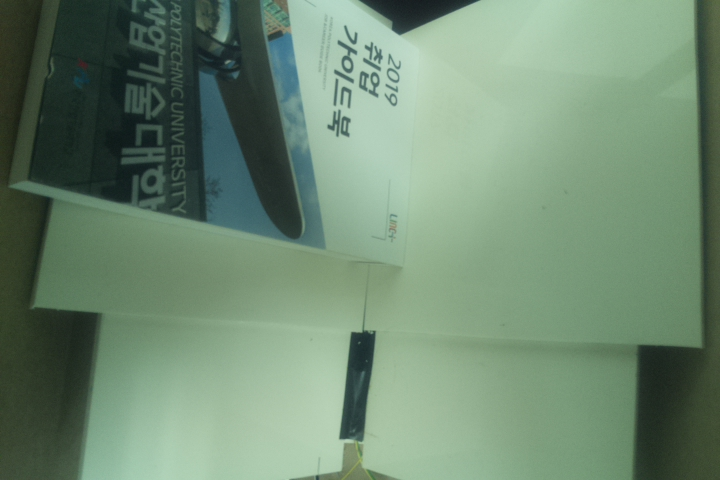book: (7, 1, 425, 274)
